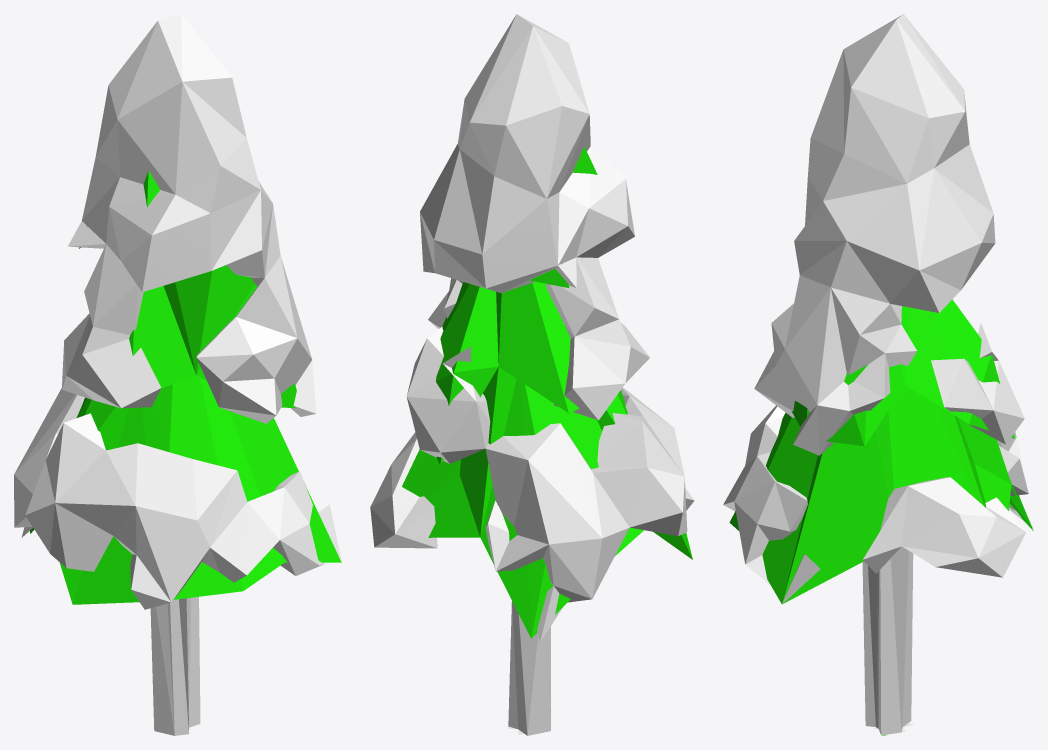
Rendered from Pine_Snowy2.fbx.
The picture shows the model from 3 angles, left to right: view 1: azimuth 30°, elevation 25°; view 2: azimuth 150°, elevation 25°; view 3: azimuth 270°, elevation 25°; orthographic projection.
Visible parts, largest first — view 1: Pine_Snowy1; view 2: Pine_Snowy1; view 3: Pine_Snowy1.
Part boxes in pixels (bbox=[...]): Pine_Snowy1: bbox=[14, 14, 341, 735]; Pine_Snowy1: bbox=[370, 14, 694, 735]; Pine_Snowy1: bbox=[723, 14, 1033, 735].
Size of the model in its own units: 266 by 670 by 266.
